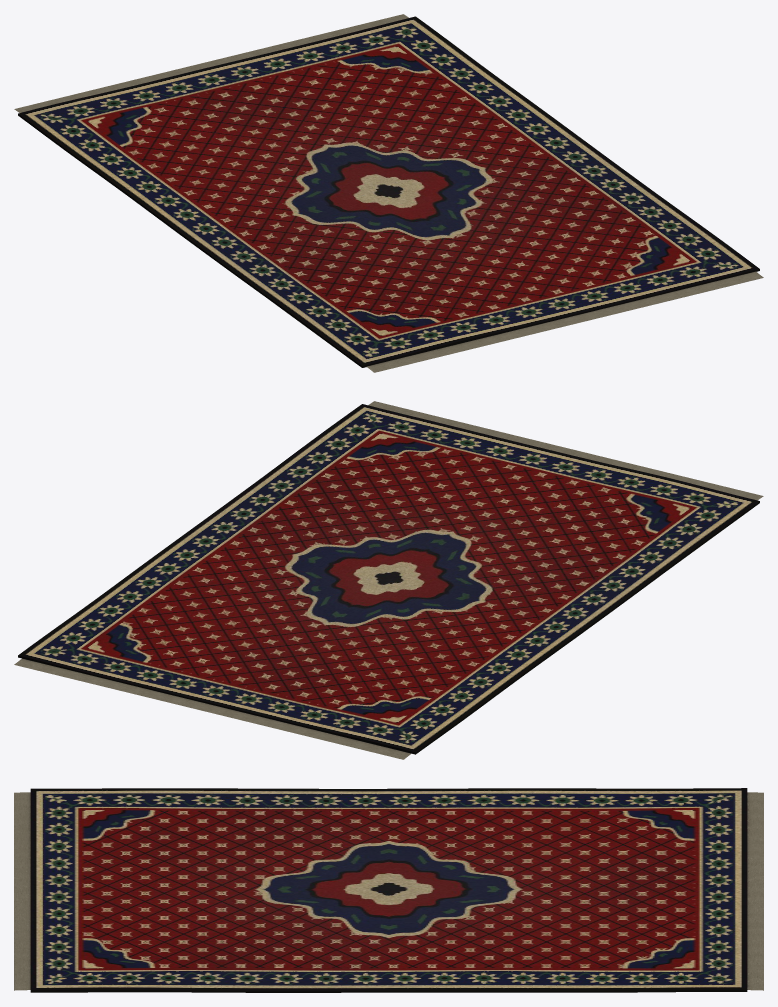
The model's file is carpet_floor_red_web.glb.
3 renders of one model, top to bottom at view 1: azimuth 30°, elevation 25°; view 2: azimuth 150°, elevation 25°; view 3: azimuth 270°, elevation 25°, orthographic. The views are drawn at different scales.
Visible parts, largest first — view 1: CarpetFloorRed_Body; view 2: CarpetFloorRed_Body; view 3: CarpetFloorRed_Body.
Part boxes in pixels (box(x1,y1,x2,y2)): CarpetFloorRed_Body: box(14, 14, 763, 372); CarpetFloorRed_Body: box(14, 401, 763, 759); CarpetFloorRed_Body: box(14, 788, 763, 992).
Size of the model in its own units: 2 by 0.0159 by 3.14.
1 material, 1 textured.
